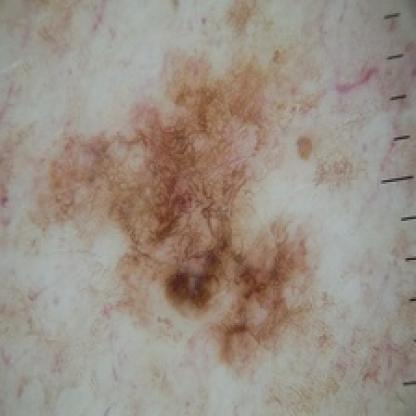Skin_Cancer-Malignant: (51, 51, 312, 372)
